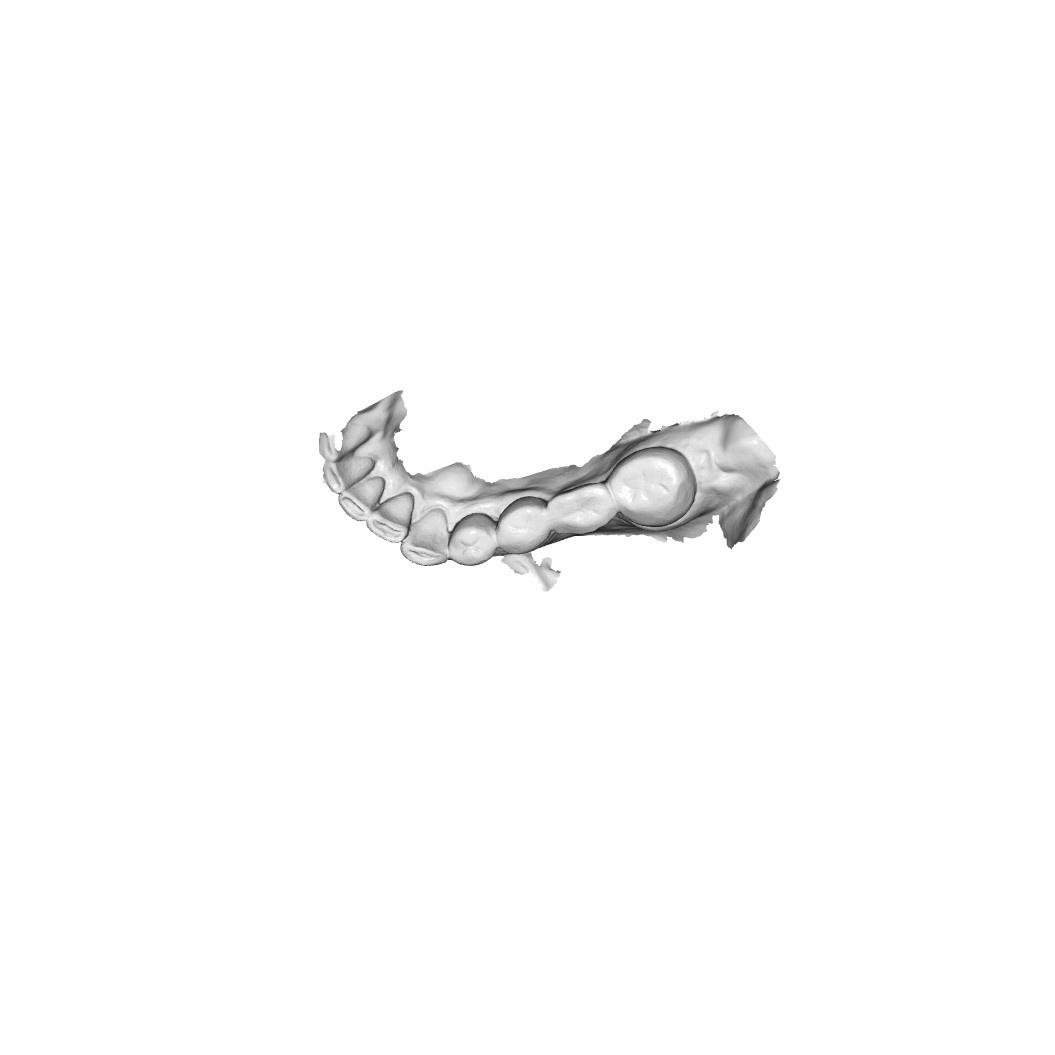canine: (401, 509, 451, 567)
incisor: (322, 450, 379, 496), (366, 493, 415, 542), (341, 476, 385, 521)
molar: (609, 445, 696, 528)
premolar: (496, 492, 556, 559), (549, 484, 613, 535), (450, 514, 502, 569)
